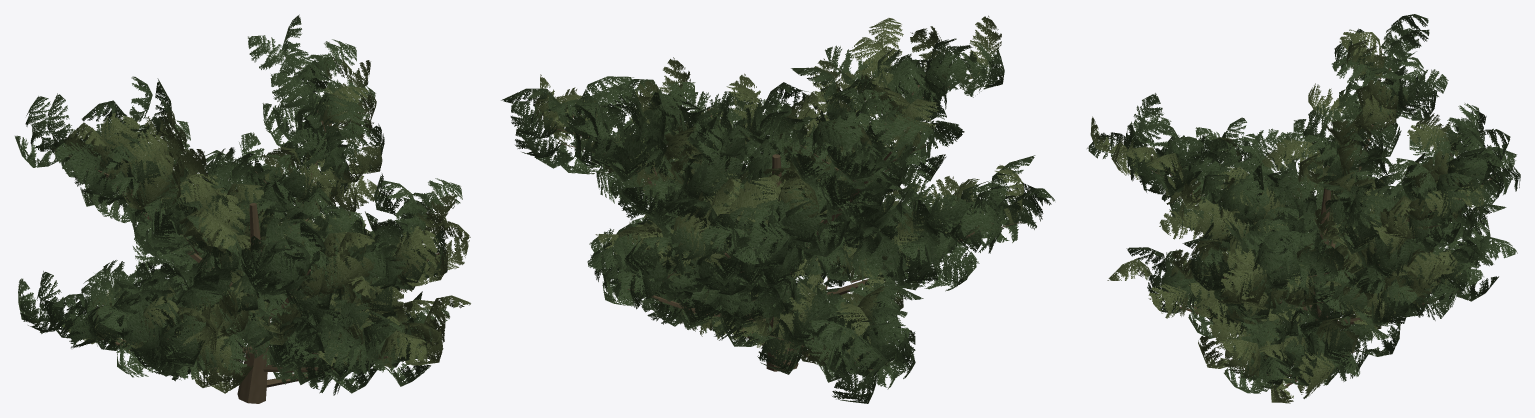
The model's file is SM_CN_Juniper_A.fbx.
The picture shows the model from 3 angles, left to right: view 1: azimuth 30°, elevation 25°; view 2: azimuth 150°, elevation 25°; view 3: azimuth 270°, elevation 25°; orthographic projection. The views are drawn at different scales.
Visible parts, largest first — view 1: SM_CN_Juniper_A; view 2: SM_CN_Juniper_A; view 3: SM_CN_Juniper_A.
Boxes of the visible parts, x1,y1,x2,y2 form: SM_CN_Juniper_A: (15,14,470,403); SM_CN_Juniper_A: (501,15,1054,403); SM_CN_Juniper_A: (1087,14,1520,403).
Size of the model in its own units: 2.19 by 2.35 by 1.65.
